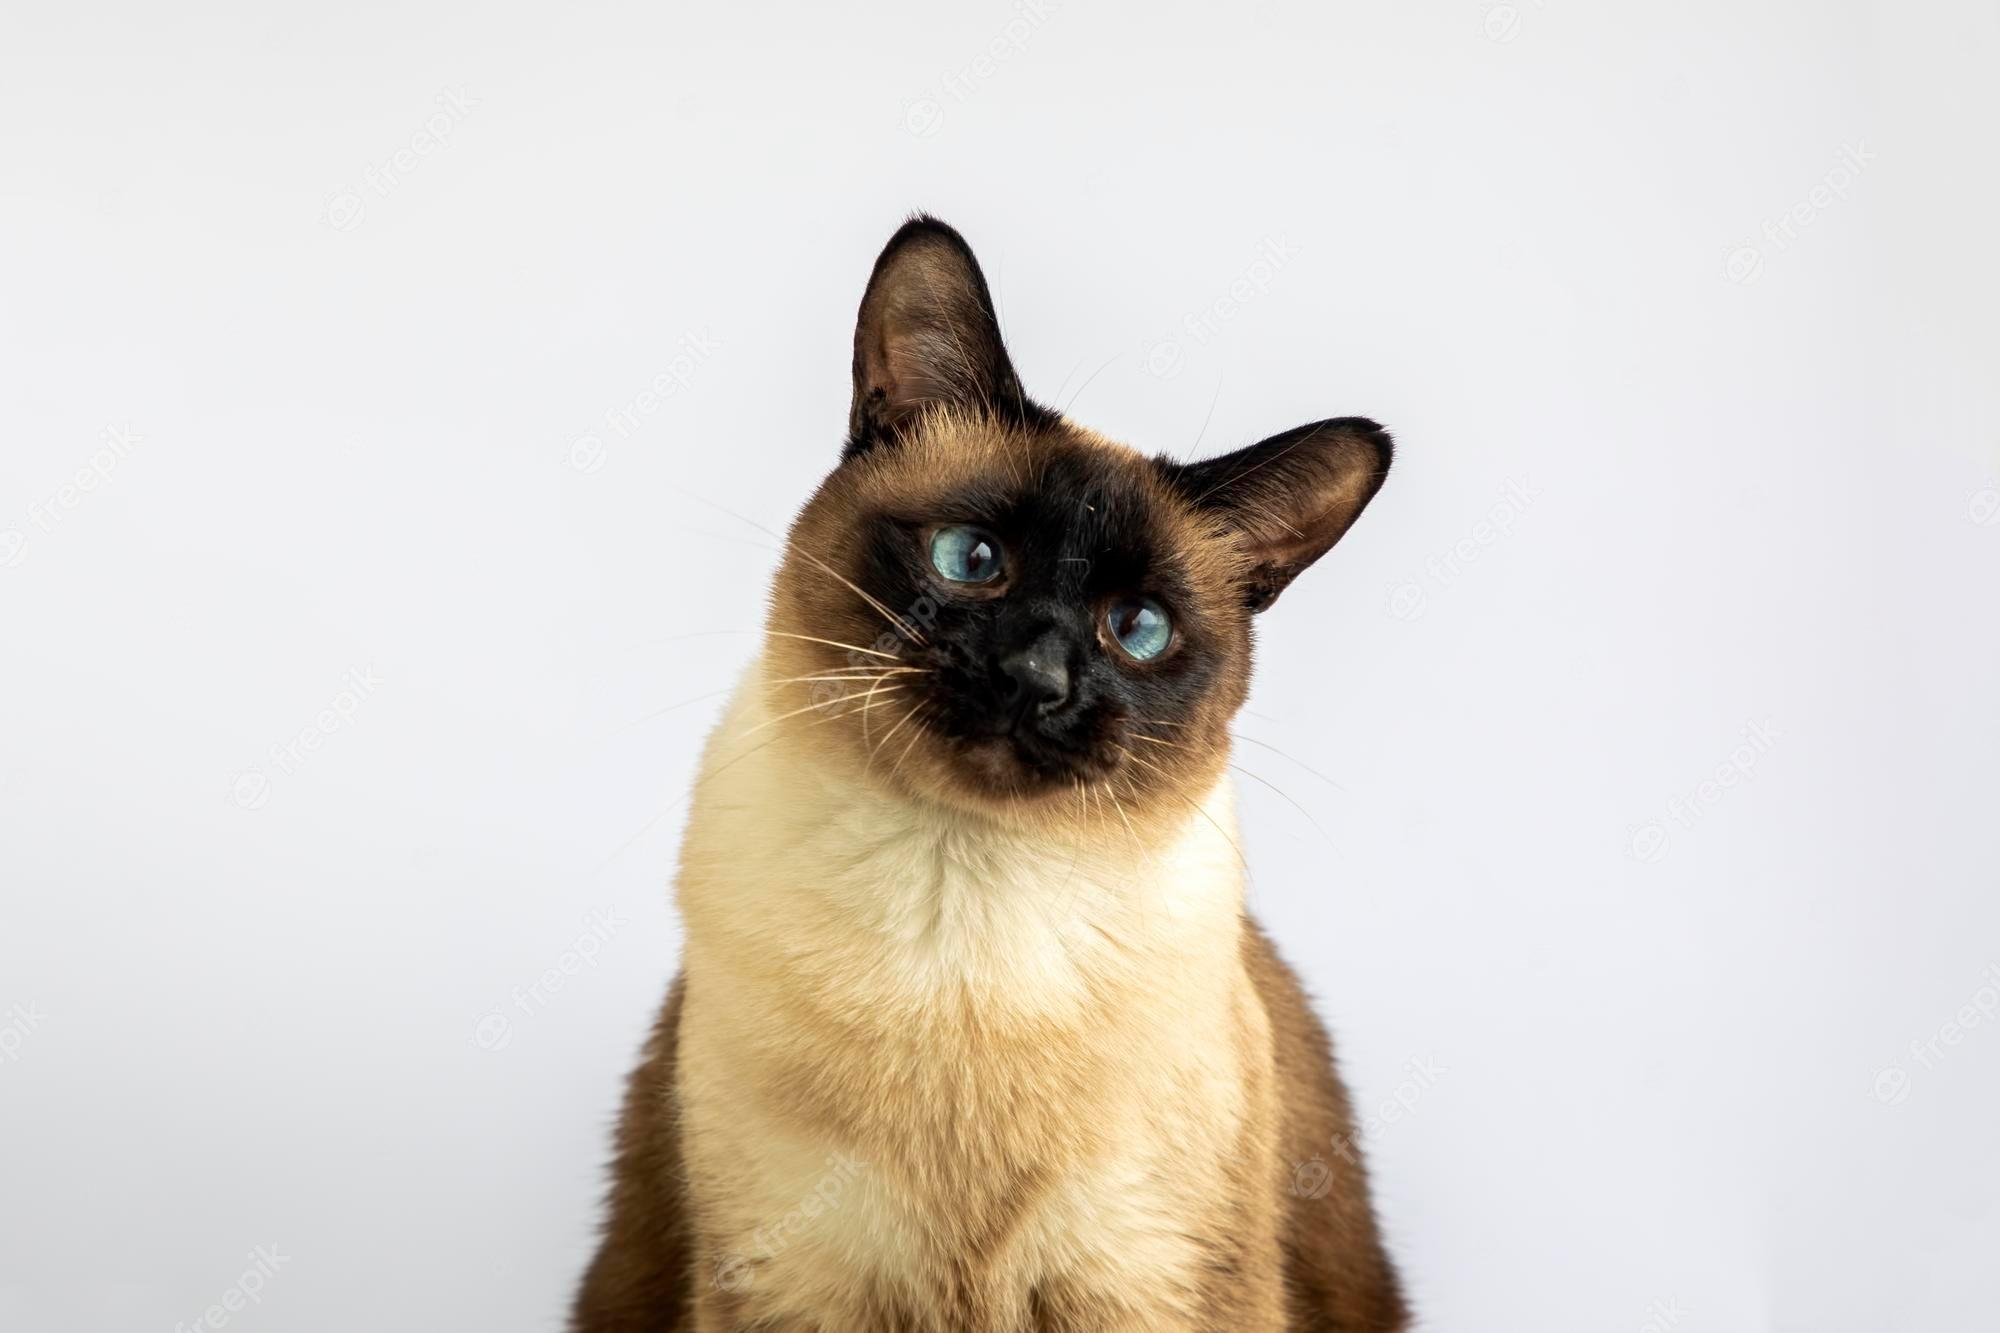siamese: (770, 199, 1410, 857)
